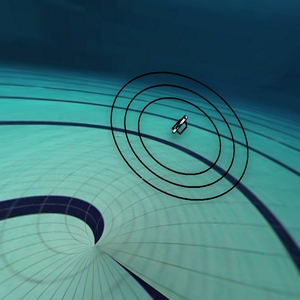circle: (103, 62, 255, 214)
submarine: (166, 112, 200, 146)
